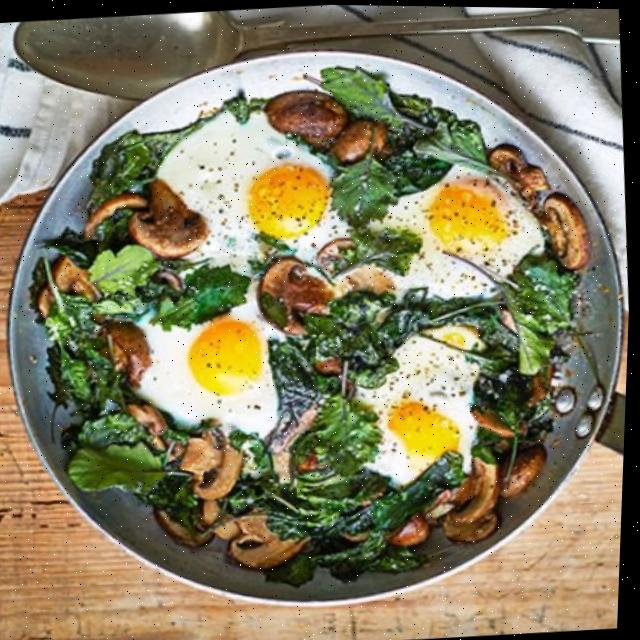Egg: (158, 110, 331, 272), (382, 165, 544, 296), (139, 297, 279, 434), (357, 333, 480, 482)
